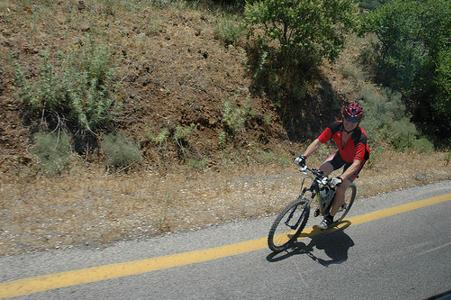person: (299, 101, 370, 231)
